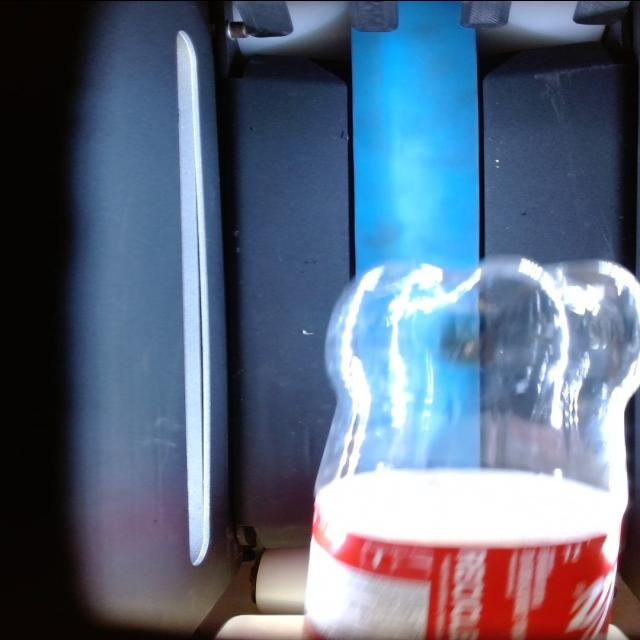bottom: (323, 247, 640, 339)
